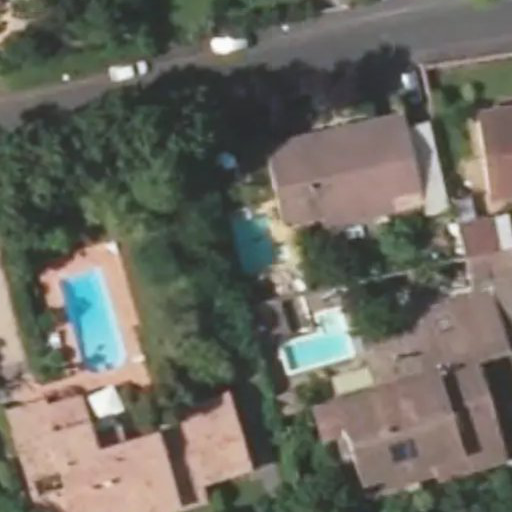pool: (233, 219, 278, 264)
